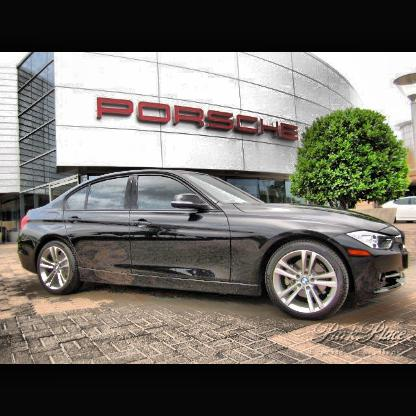BMW 3 Series Sedan 2012: (14, 164, 416, 327)
